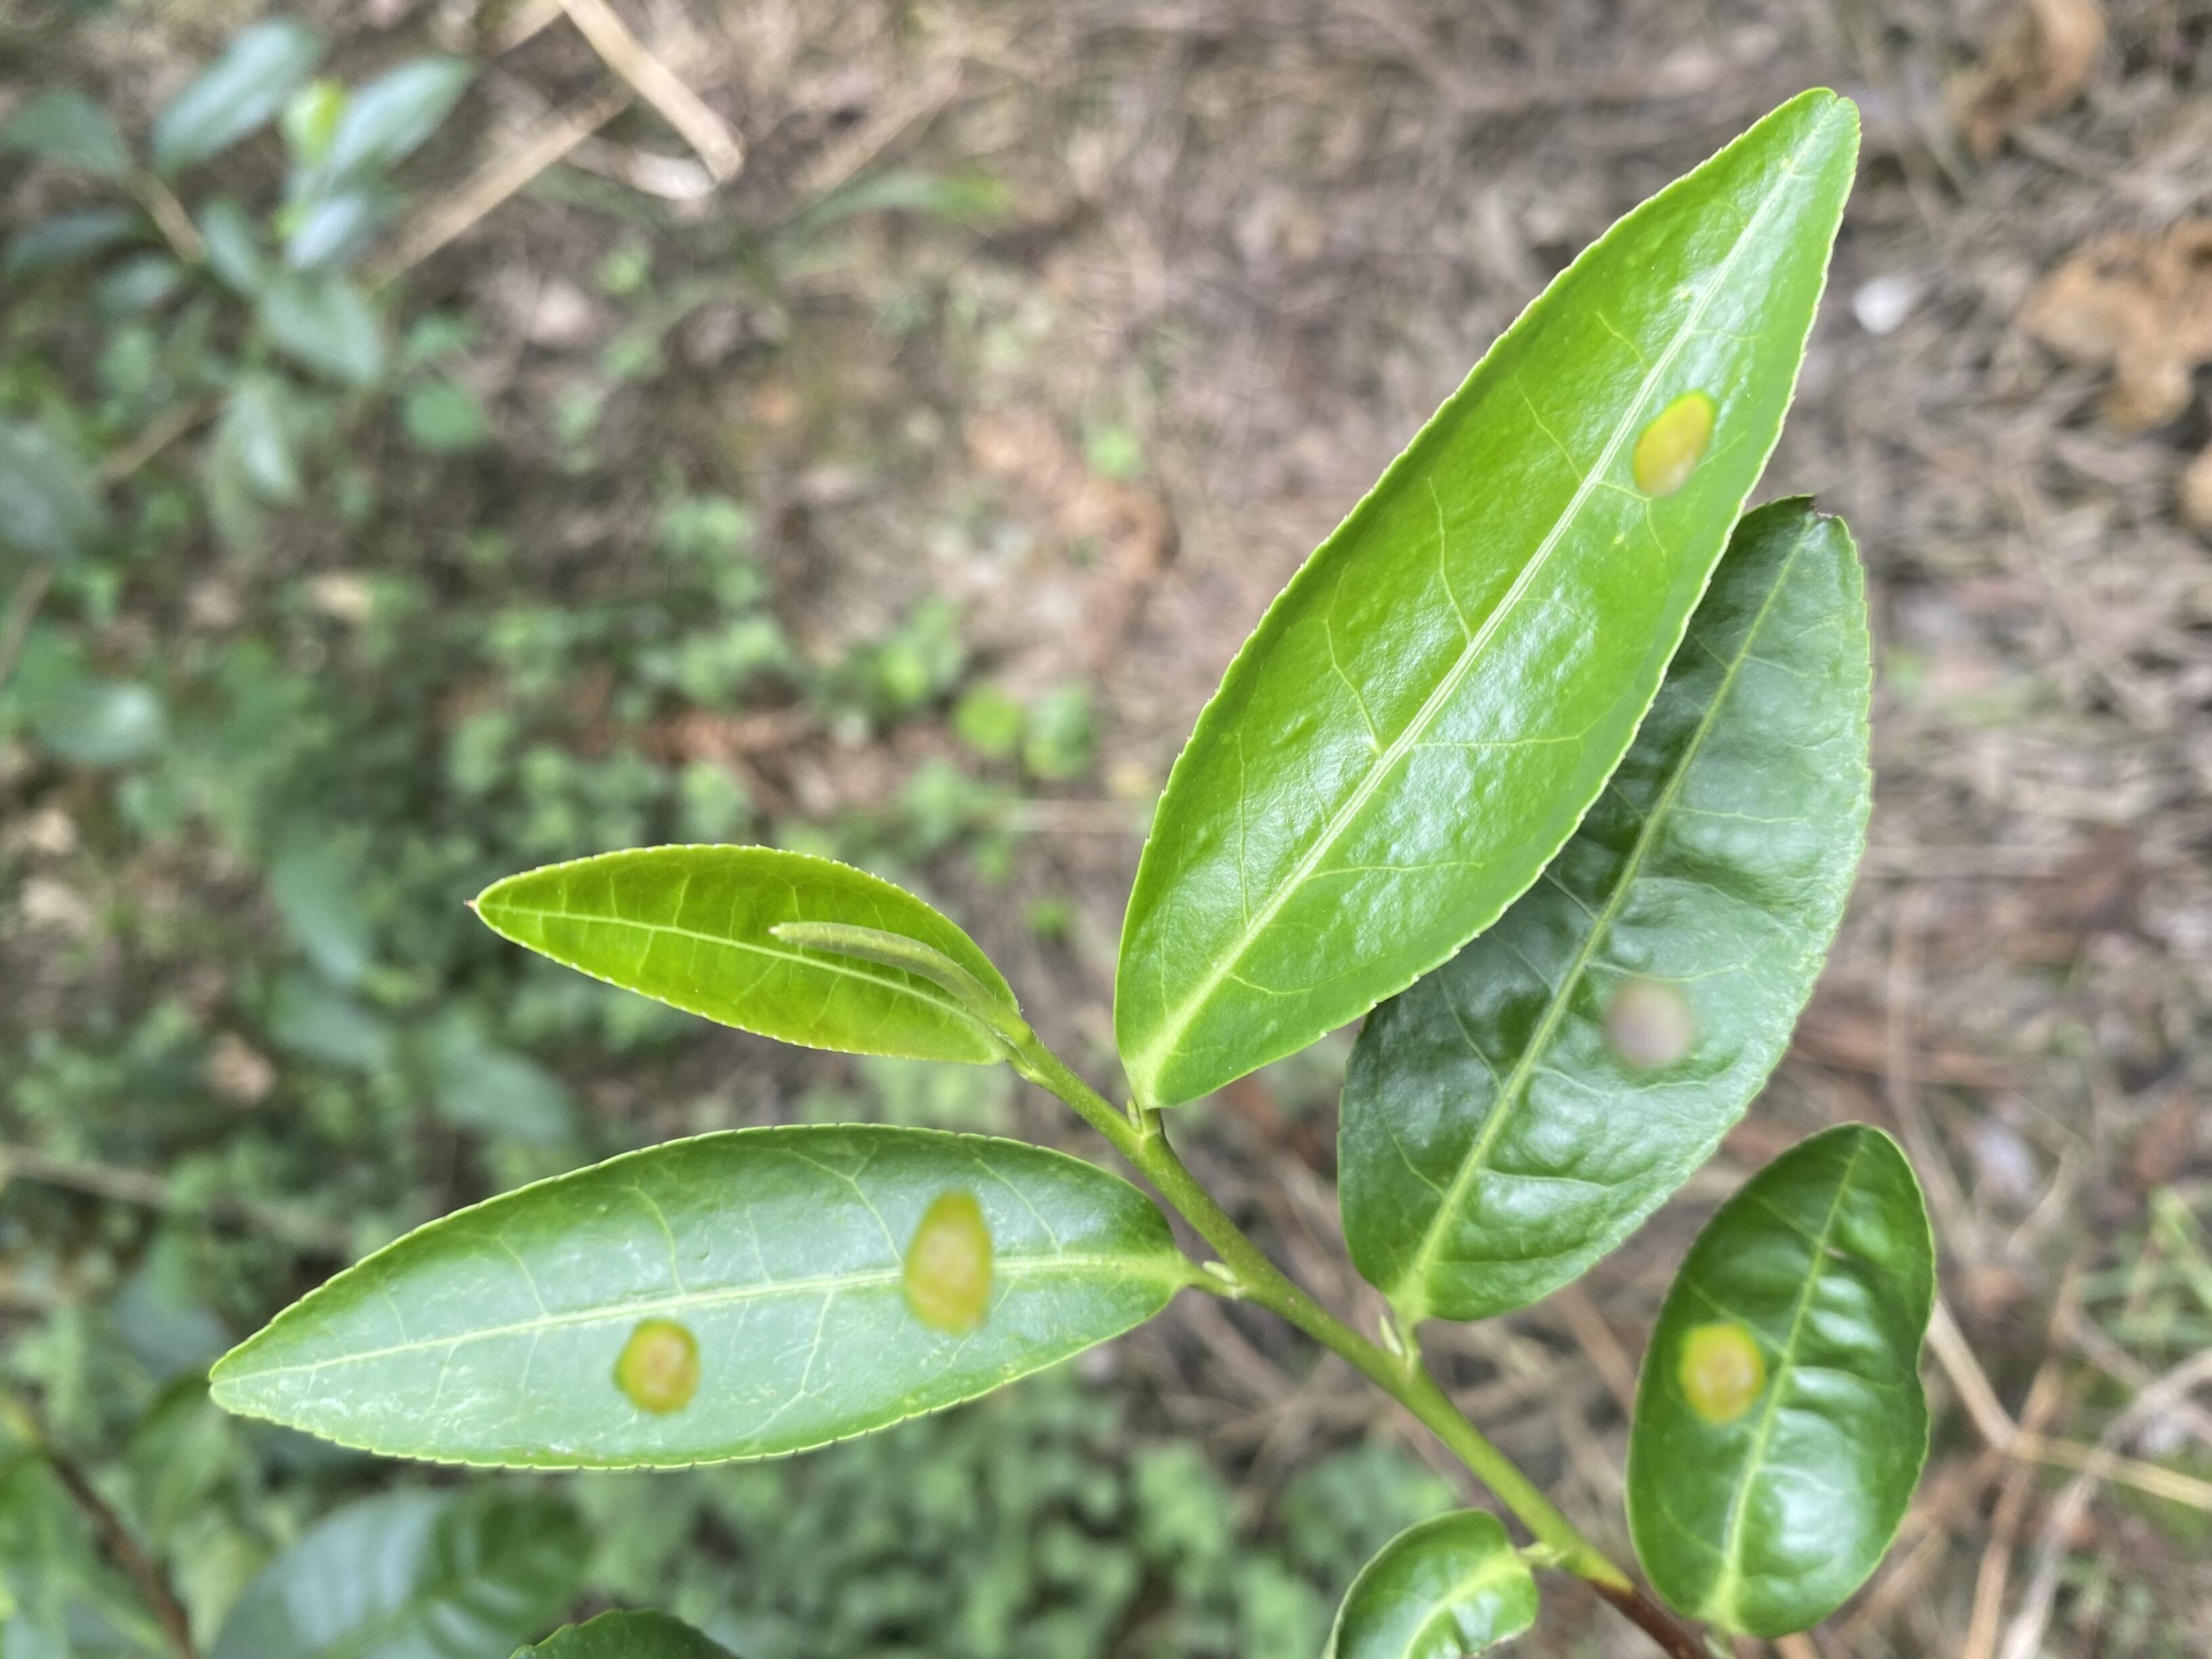chabing_high: (207, 1121, 1183, 1474)
chabing_low: (1113, 89, 1862, 1115), (1336, 495, 1878, 1324), (1622, 1121, 1939, 1638)
healthy: (470, 843, 1026, 1065)
